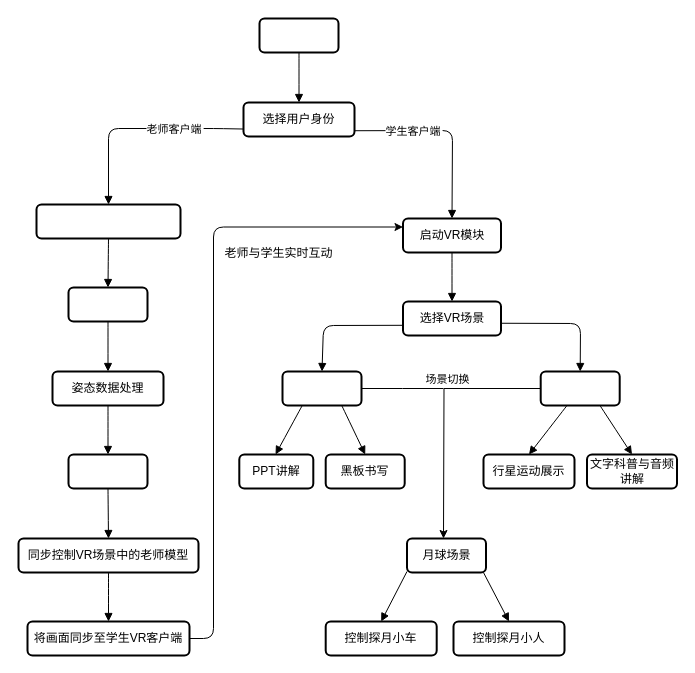
Some shapes in this 695 by 673 pixel diagram are drawn without their labels. Each missing label, with the centre of its shape:
"启动姿态识别模块" goes at [108,221].
"姿态识别" goes at [107,304].
"教室场景" goes at [321,388].
"系统启动" goes at [298,35].
"网络模块" goes at [107,471].
"行星场景" goes at [579,388].
